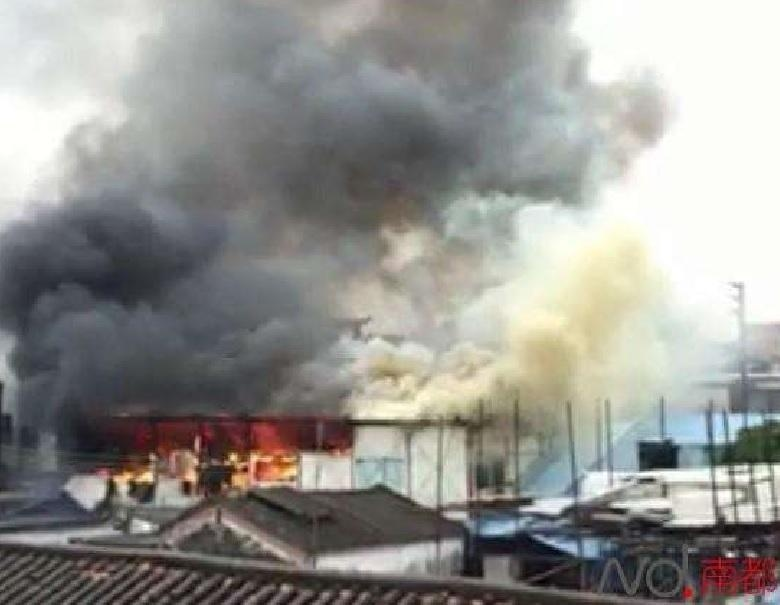fire: (92, 417, 300, 485)
